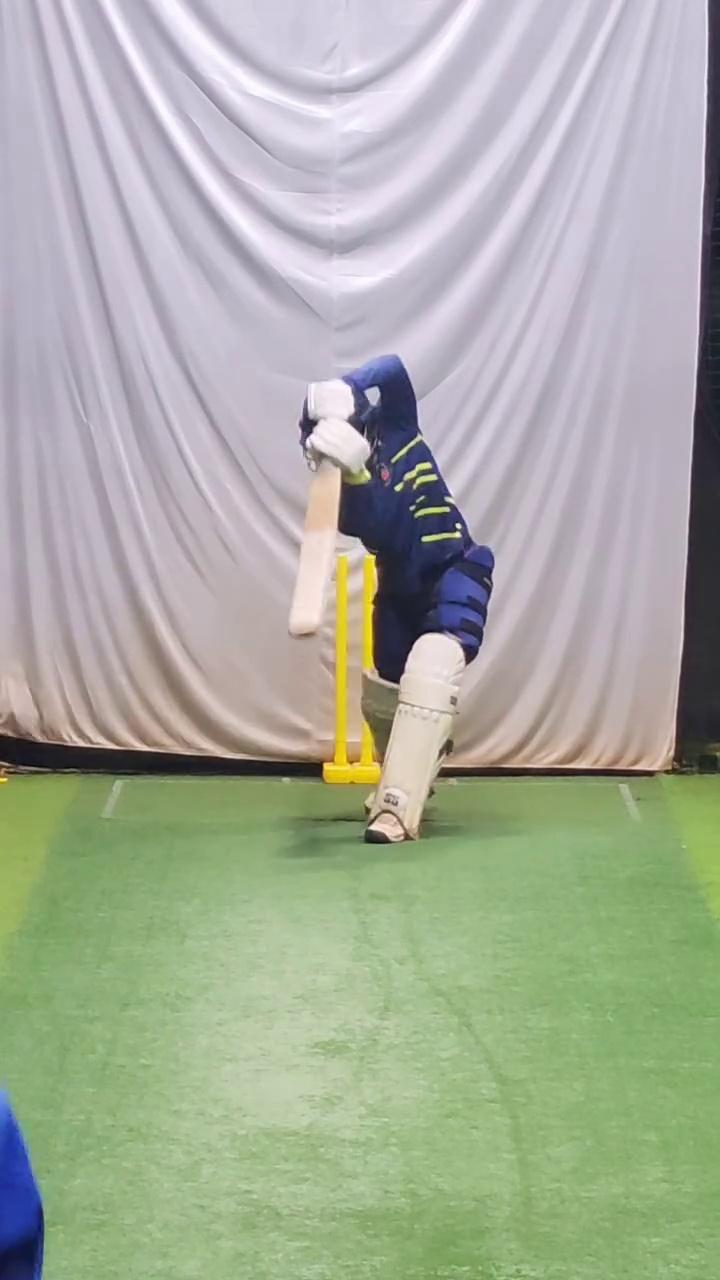bat: (283, 459, 346, 646)
